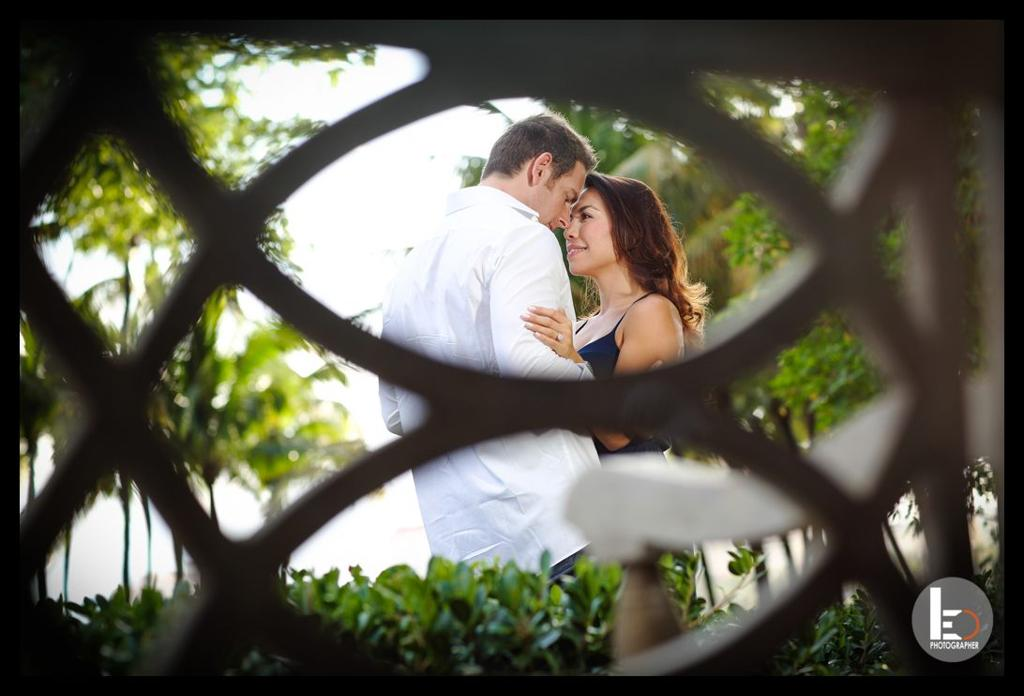face: (531, 149, 586, 234), (563, 186, 616, 273)
